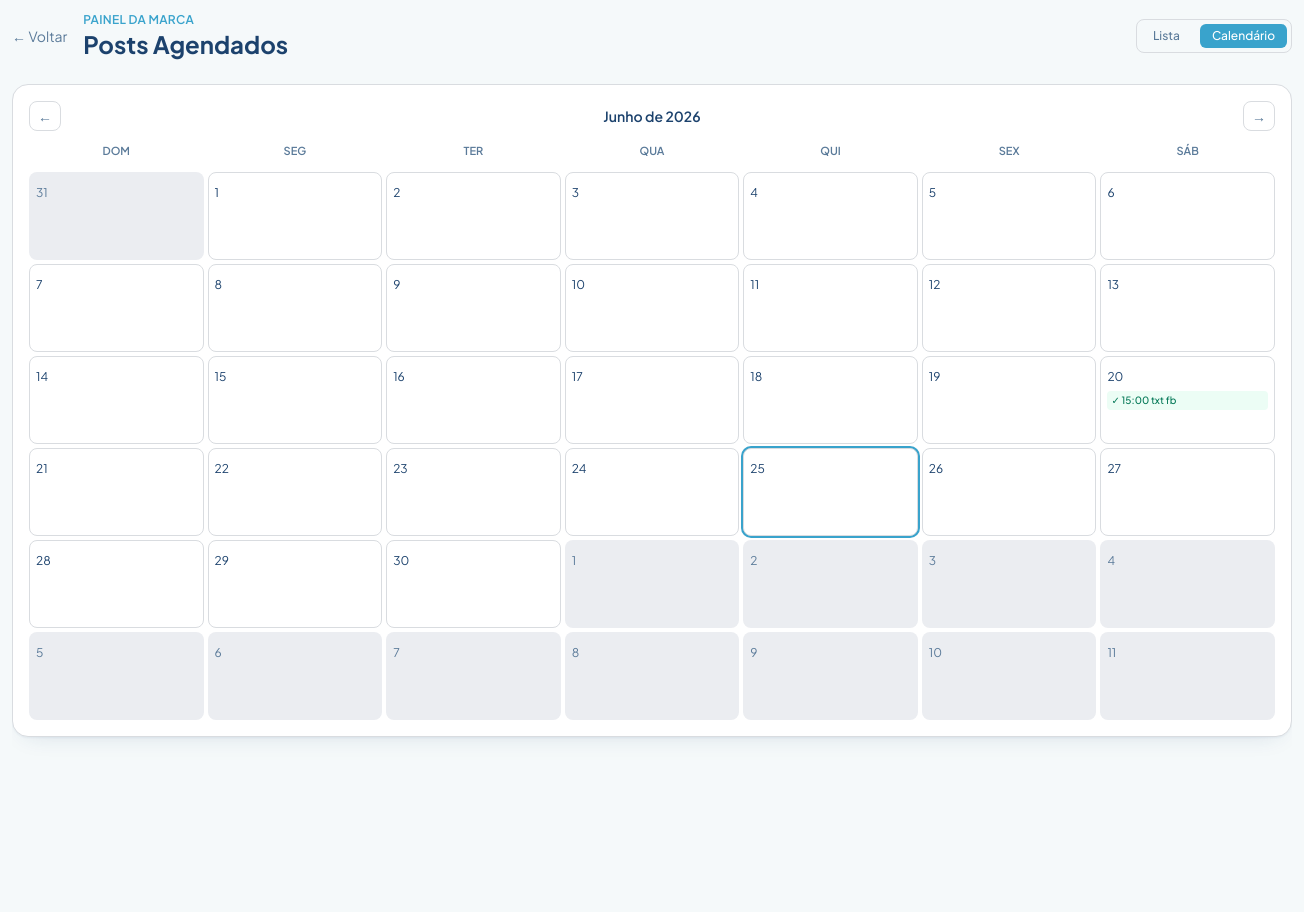
Test case: ScheduledPostsPage › posts publicados › marca a rede que falhou (✕) e sinaliza publicação parcial quando só uma parte publicou
Click the button "Lista": (1166, 36) [1141,24,1192,48]
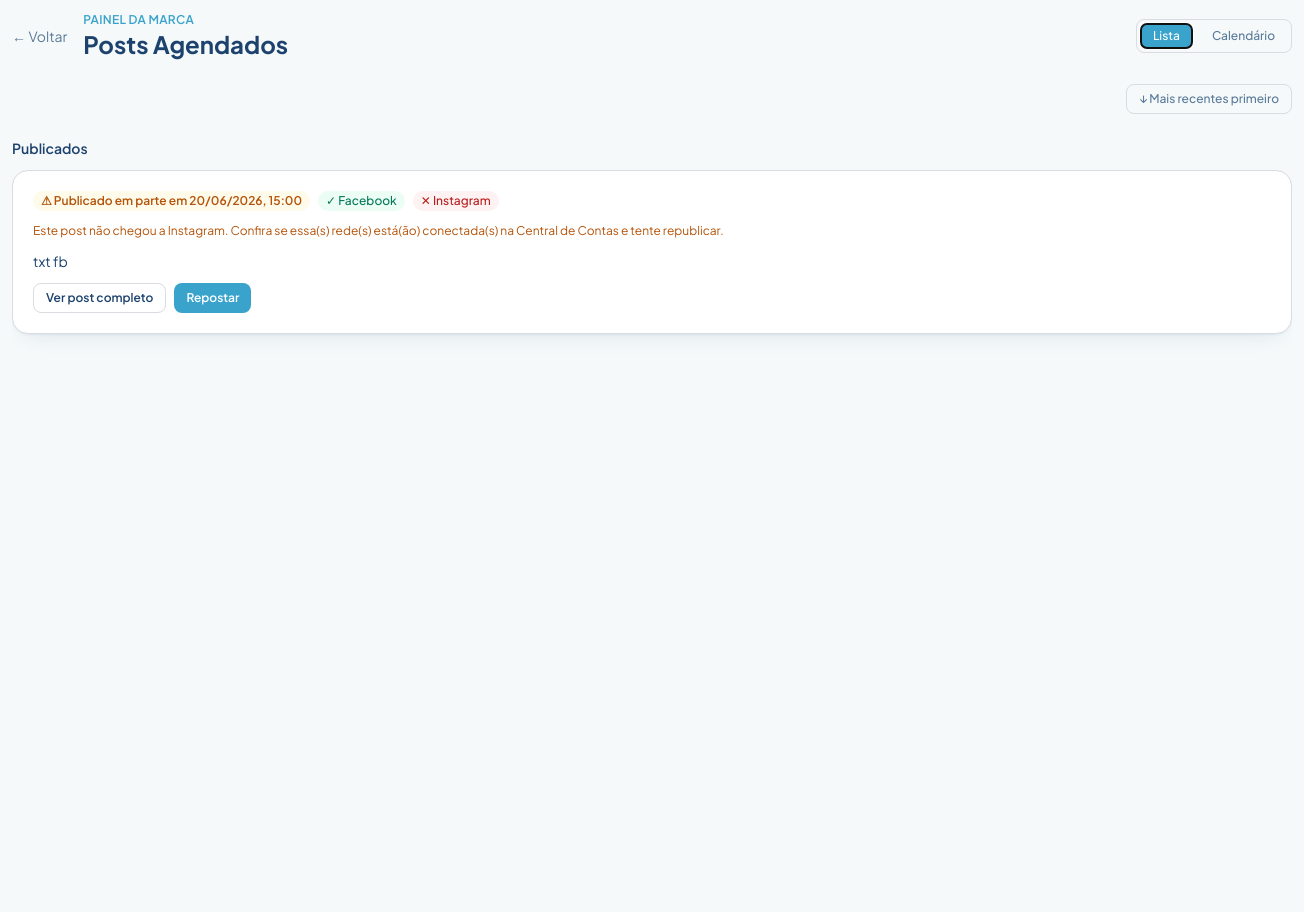
Expected: the text "✓ Facebook" is shown, [318,191,405,211]
Expected: the text "✕ Instagram" is shown, [413,191,499,211]
Expected: the text "⚠ Publicado em parte em 20/06/2026, 15:00" is shown, [33,191,310,211]
